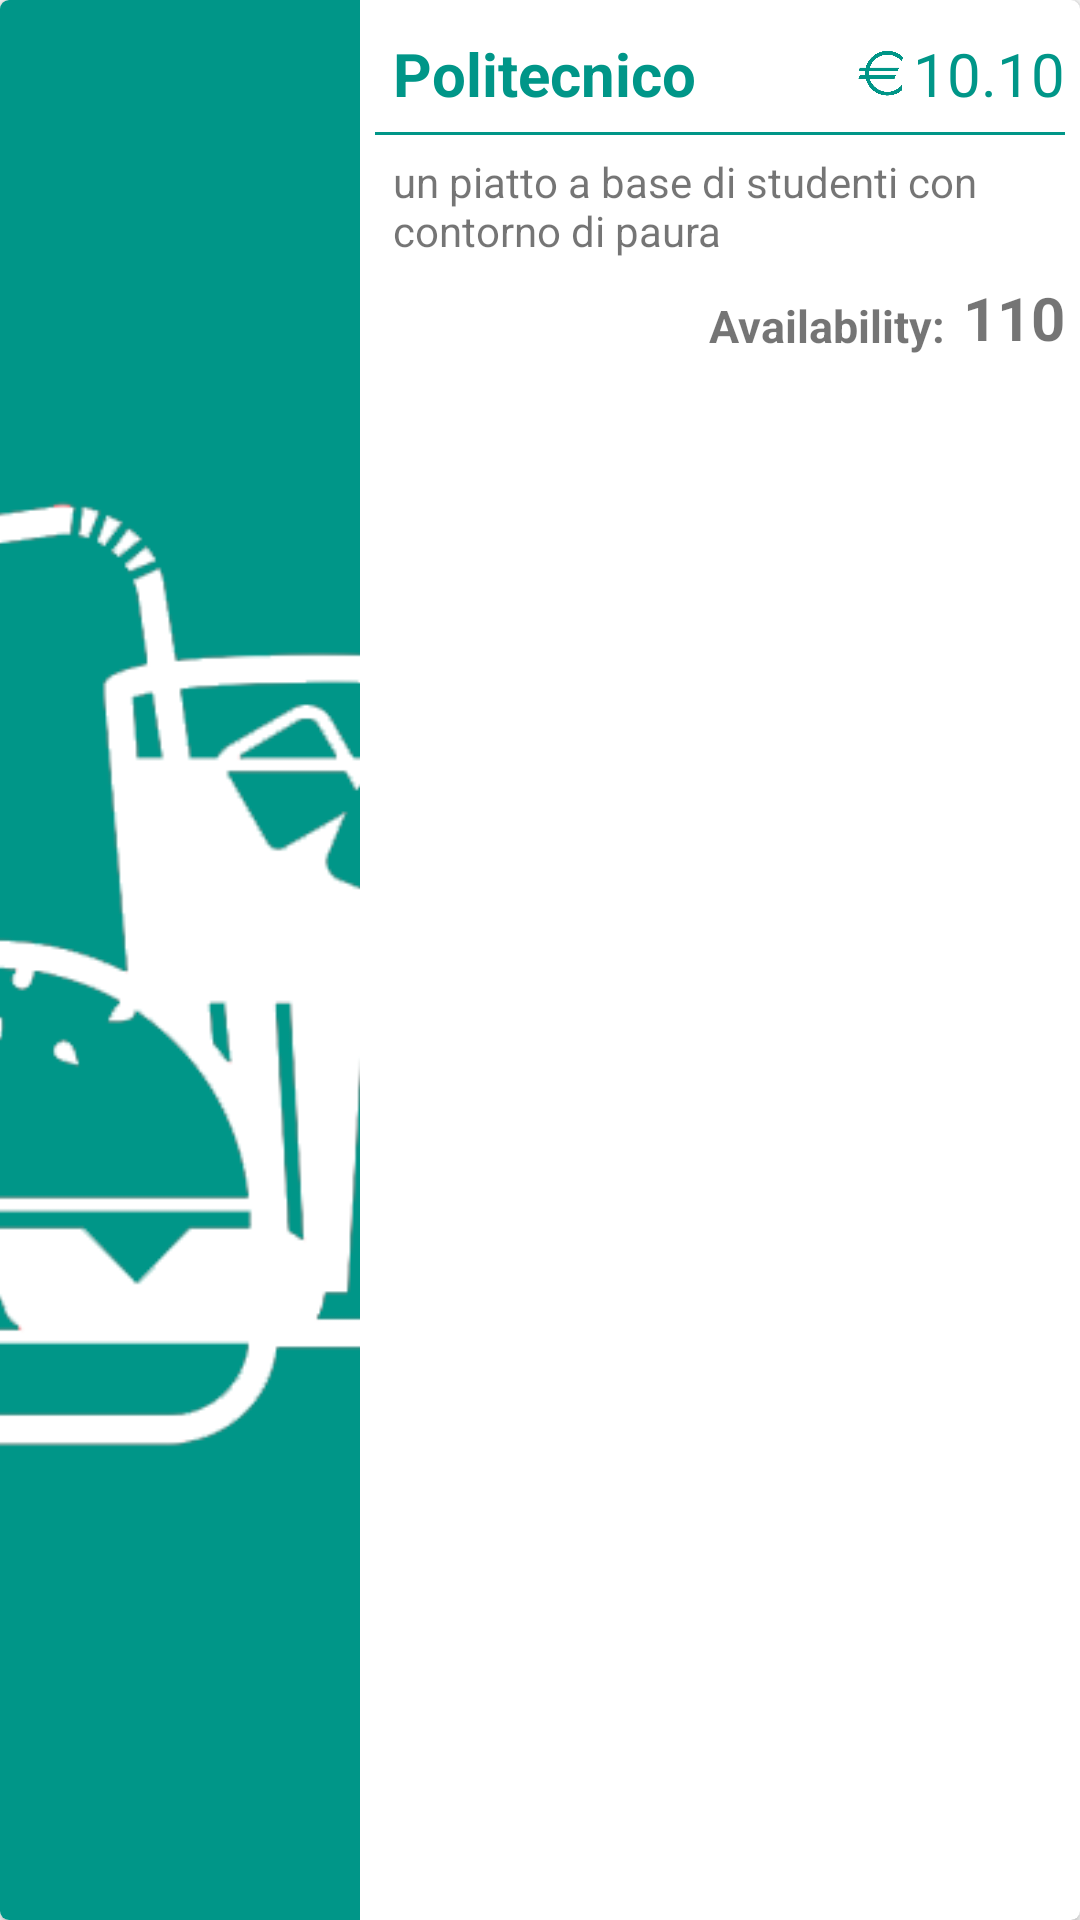

Named icons in this screenshot (1080 × 1920) and their bounding boxes, (x1, y1, x2, y2):
euro symbol: (858, 51, 903, 96)
